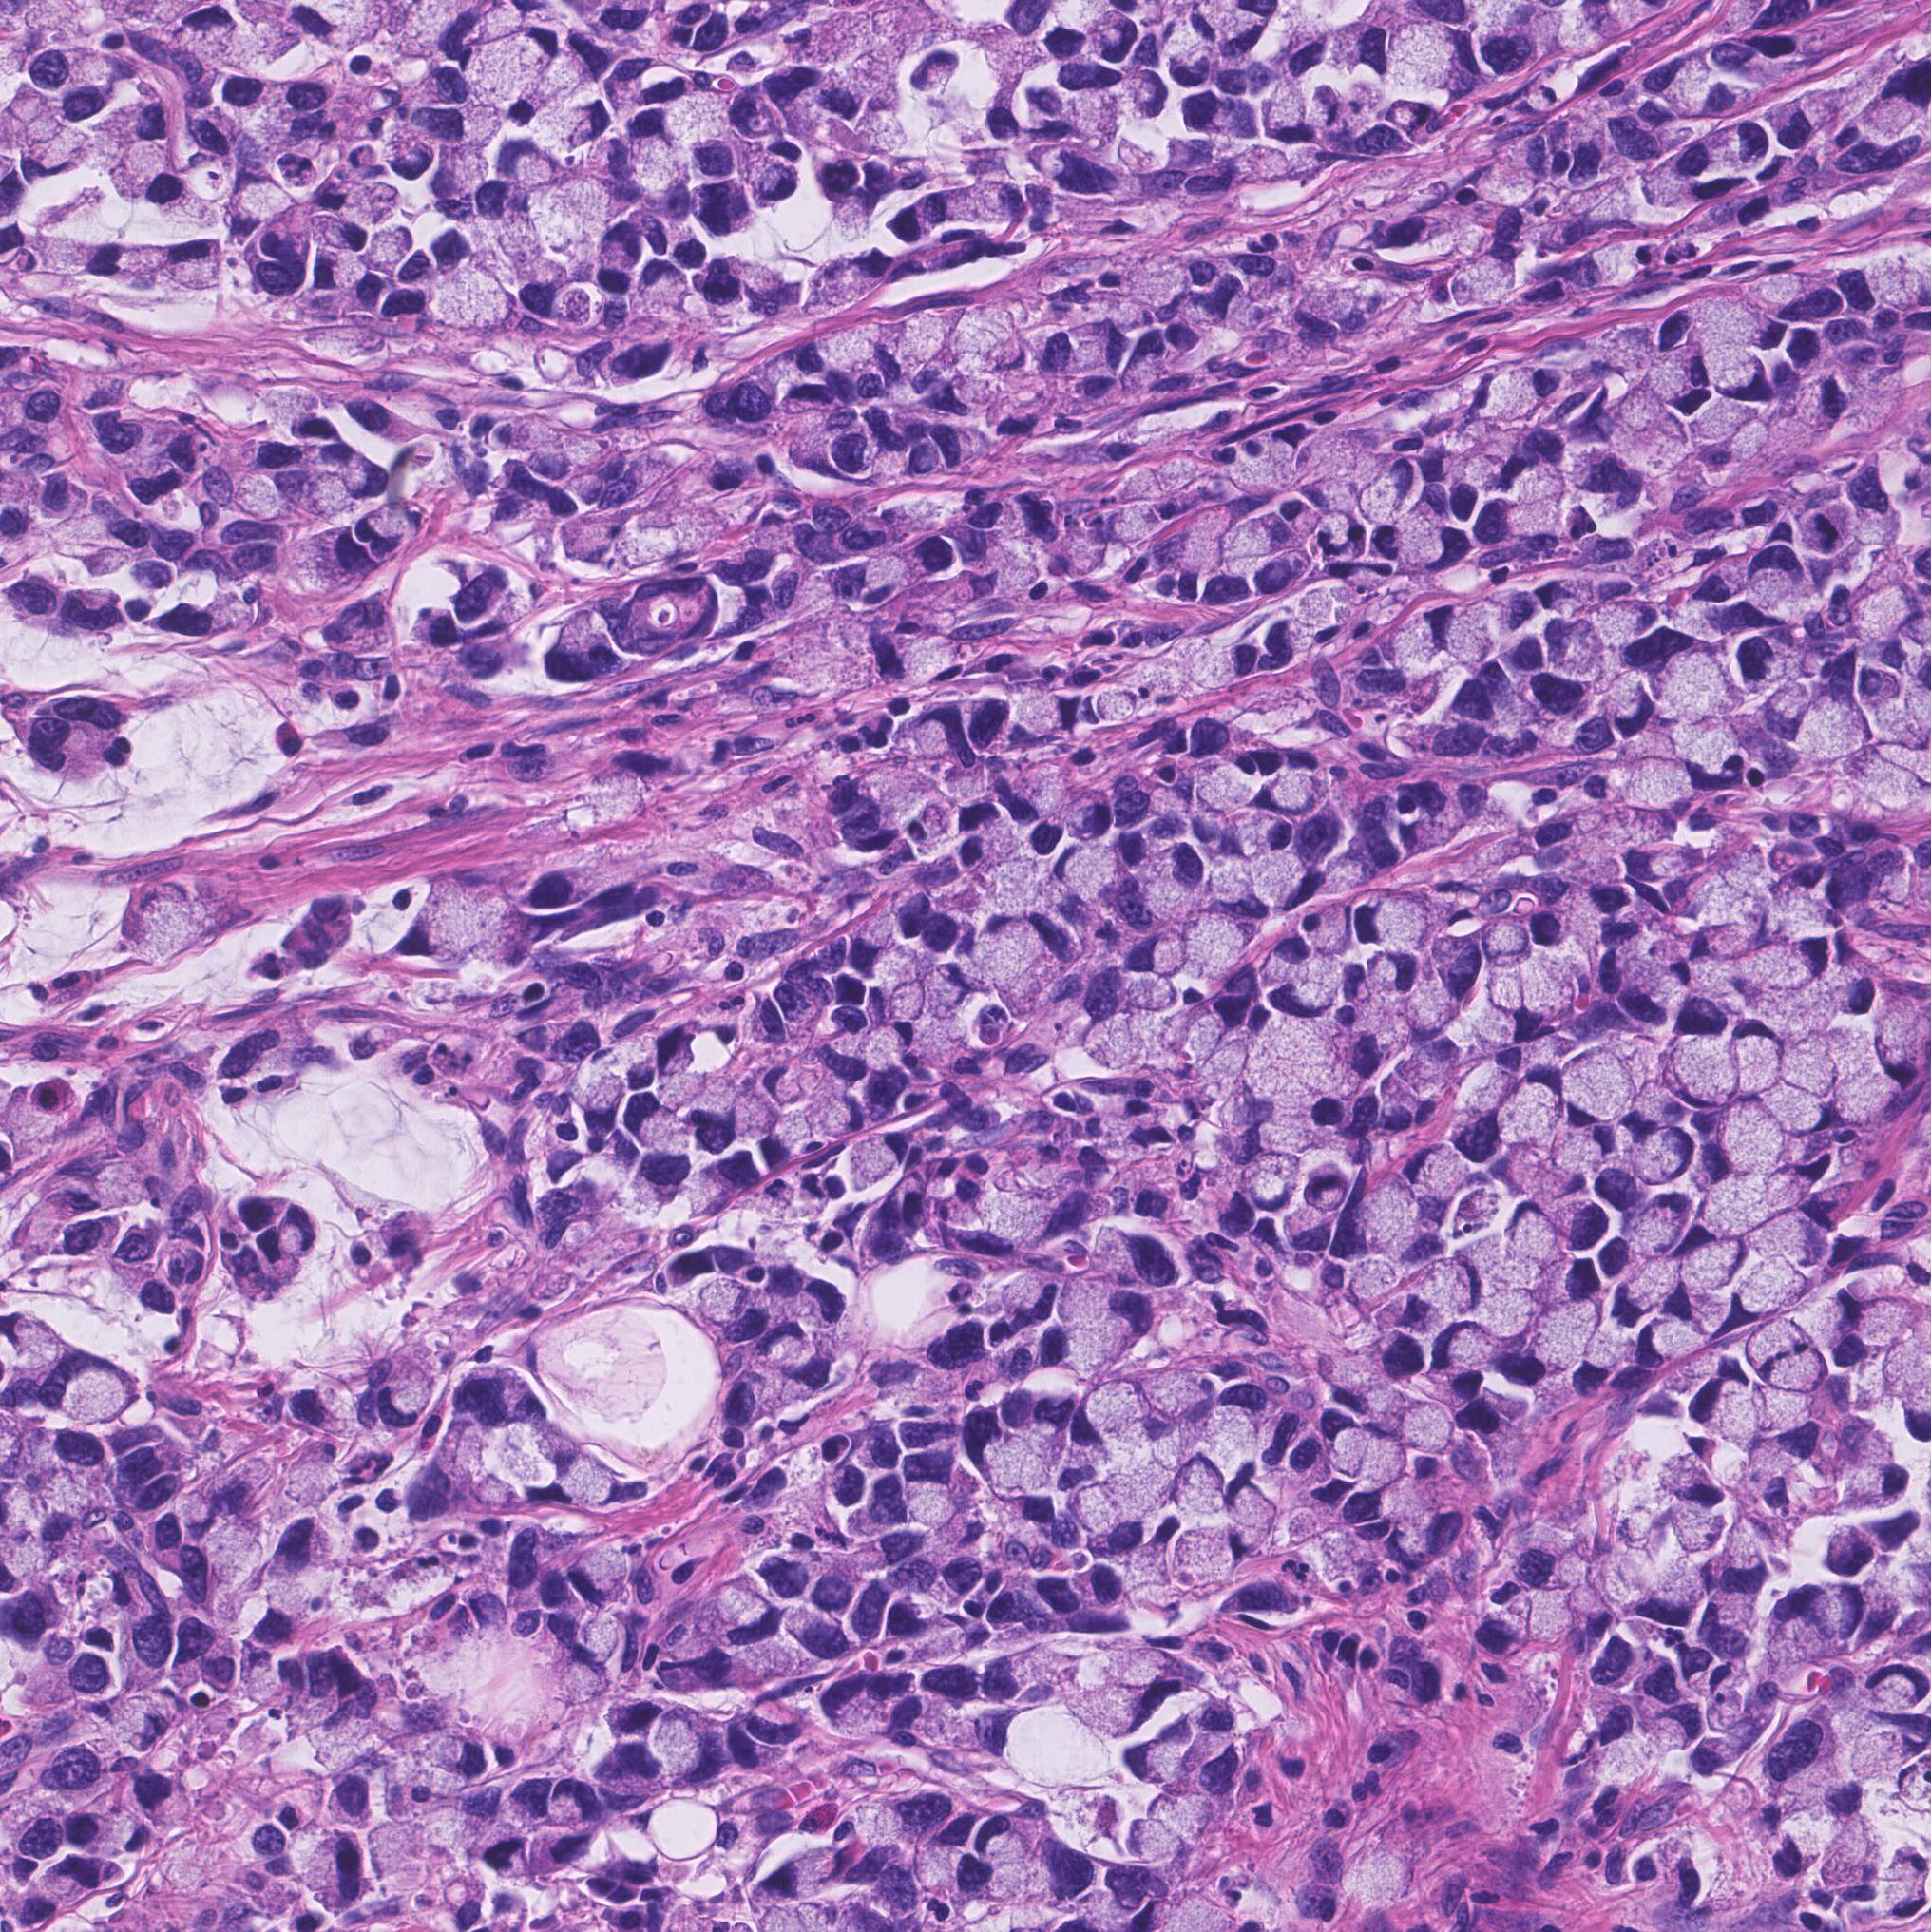ring_cell_cancer: (1634, 628, 1752, 721), (1247, 1004, 1353, 1096), (1084, 1221, 1181, 1304), (398, 887, 513, 956), (1065, 1379, 1148, 1462), (1745, 1315, 1834, 1391), (1843, 453, 1904, 557), (974, 1430, 1056, 1508), (295, 1835, 382, 1907), (122, 886, 203, 962), (950, 306, 1033, 380), (1701, 1167, 1786, 1239), (1496, 1517, 1581, 1586), (1528, 1296, 1604, 1370), (285, 527, 361, 601), (1678, 1020, 1738, 1114), (53, 1358, 136, 1425), (1678, 297, 1779, 352), (812, 249, 900, 311), (1335, 1845, 1418, 1911), (548, 613, 624, 684), (654, 1709, 723, 1787), (1802, 695, 1881, 762), (1222, 433, 1307, 495), (1622, 753, 1706, 815), (1676, 718, 1752, 787), (1733, 1255, 1809, 1322), (1443, 247, 1524, 309), (1560, 1050, 1629, 1122), (1728, 1018, 1790, 1098), (1475, 490, 1570, 541), (1749, 270, 1841, 323), (714, 1586, 782, 1656), (1148, 845, 1211, 919), (1337, 1423, 1413, 1485), (1077, 1685, 1165, 1738), (1827, 1817, 1885, 1897), (1457, 1045, 1524, 1114), (1627, 1190, 1698, 1255), (1846, 362, 1908, 437), (1401, 513, 1471, 576), (1724, 1105, 1788, 1175), (1185, 914, 1257, 976), (1577, 1322, 1637, 1396), (561, 1453, 638, 1510), (1353, 460, 1420, 525), (1837, 1586, 1903, 1653), (1751, 543, 1811, 615), (1505, 1068, 1565, 1140), (1830, 1069, 1904, 1128), (842, 1130, 916, 1188), (1291, 278, 1355, 345), (1634, 1119, 1698, 1186), (1701, 341, 1770, 403), (895, 705, 967, 764), (1747, 946, 1839, 992), (1637, 1561, 1701, 1626), (1408, 1142, 1473, 1206), (1770, 1589, 1832, 1656), (1618, 1260, 1685, 1322), (1355, 1188, 1416, 1255), (1770, 1154, 1839, 1214), (380, 1358, 437, 1430), (1351, 1011, 1415, 1075), (1696, 1379, 1761, 1441), (790, 1601, 852, 1667), (819, 1676, 879, 1743), (1086, 1294, 1155, 1352), (1434, 608, 1498, 670), (1858, 580, 1922, 642), (1349, 900, 1429, 949), (1620, 958, 1682, 1022), (1758, 1393, 1820, 1457), (1197, 1403, 1259, 1467), (760, 1854, 840, 1904), (1206, 850, 1264, 917), (976, 910, 1045, 967), (568, 1062, 624, 1131), (1722, 1524, 1772, 1601), (1683, 1230, 1745, 1292), (1623, 415, 1687, 475), (1777, 1032, 1837, 1096), (1128, 253, 1194, 311), (898, 626, 964, 684), (1759, 1211, 1827, 1267), (898, 1469, 957, 1533), (1768, 1084, 1834, 1140), (1149, 532, 1224, 582), (1880, 1013, 1927, 1089), (1777, 866, 1834, 930), (1015, 691, 1088, 741), (1519, 953, 1574, 1018), (1850, 1451, 1910, 1510), (564, 1543, 624, 1601), (1059, 845, 1121, 901), (1636, 1319, 1701, 1372), (1602, 325, 1662, 382), (698, 1147, 760, 1202), (41, 1858, 124, 1898), (1797, 369, 1850, 433), (1432, 935, 1485, 999), (1683, 919, 1756, 965), (523, 1828, 596, 1874), (1471, 369, 1538, 419), (1668, 1449, 1724, 1508), (1174, 1534, 1243, 1582), (355, 511, 424, 559), (1052, 527, 1114, 580), (1438, 1319, 1501, 1370), (1862, 1663, 1927, 1713), (1553, 1119, 1618, 1168), (1263, 774, 1330, 822), (1172, 1455, 1231, 1510), (1084, 1018, 1142, 1073), (759, 1315, 813, 1373), (622, 1096, 681, 1151), (1851, 1294, 1912, 1347), (1827, 1524, 1880, 1584), (723, 1091, 785, 1142), (798, 338, 879, 377), (1395, 608, 1445, 672), (1595, 601, 1660, 649), (1788, 976, 1844, 1031), (1629, 1078, 1683, 1135), (1664, 1497, 1721, 1552), (599, 210, 651, 270), (1256, 854, 1316, 905), (866, 1016, 918, 1076), (58, 587, 118, 638), (1121, 1738, 1183, 1787), (744, 251, 792, 315), (1128, 1817, 1183, 1872), (1604, 679, 1657, 735), (1844, 1253, 1903, 1304), (1227, 1478, 1278, 1536), (1420, 1262, 1480, 1312), (1353, 1487, 1441, 1520), (543, 1782, 605, 1829), (1404, 977, 1452, 1039), (1530, 1260, 1602, 1301), (1657, 357, 1710, 412), (1485, 1285, 1538, 1340), (164, 242, 221, 293), (306, 210, 363, 262), (1551, 1204, 1607, 1255), (1116, 1642, 1181, 1686), (1480, 962, 1528, 1022), (1126, 933, 1187, 981), (1682, 956, 1744, 1002), (1685, 398, 1761, 435), (571, 1609, 615, 1672), (370, 214, 424, 265), (1508, 447, 1560, 502), (1721, 847, 1772, 901), (1395, 1407, 1450, 1458), (1194, 645, 1263, 686), (240, 472, 297, 521), (916, 967, 974, 1015), (1153, 1794, 1213, 1840), (1126, 970, 1187, 1016), (341, 449, 393, 502), (1199, 762, 1252, 813), (1510, 1202, 1560, 1257), (741, 1706, 805, 1748), (1827, 1027, 1873, 1085), (1546, 620, 1595, 673), (1125, 332, 1172, 387), (997, 1274, 1054, 1320), (1668, 1283, 1728, 1326), (1300, 903, 1351, 953), (1241, 808, 1296, 854), (813, 1096, 870, 1140), (1289, 1202, 1332, 1260), (1731, 421, 1782, 468), (651, 1032, 702, 1080), (976, 1814, 1024, 1865), (1347, 1259, 1401, 1304), (861, 557, 914, 603), (1386, 1525, 1441, 1570), (1370, 953, 1422, 999), (1648, 1706, 1701, 1750), (1705, 1589, 1758, 1633), (1225, 520, 1286, 559), (1574, 1586, 1616, 1640), (1275, 981, 1340, 1016), (640, 262, 688, 309), (1616, 384, 1662, 433), (1627, 845, 1694, 879), (1248, 1167, 1301, 1209), (934, 422, 987, 465), (1694, 559, 1754, 596), (1768, 684, 1807, 741), (1206, 276, 1252, 323), (706, 1282, 753, 1327), (1800, 502, 1844, 551), (1526, 1593, 1570, 1640), (281, 1206, 317, 1264), (1494, 1145, 1540, 1190), (760, 1066, 810, 1107), (1477, 923, 1533, 958), (1489, 1255, 1542, 1292), (1111, 467, 1167, 500), (882, 981, 925, 1025), (713, 258, 744, 315), (1309, 1172, 1351, 1214), (1319, 514, 1358, 559), (668, 223, 706, 269), (1691, 1738, 1738, 1771), (891, 203, 935, 239), (1096, 688, 1142, 721), (1264, 620, 1310, 654), (1614, 1511, 1655, 1547)
